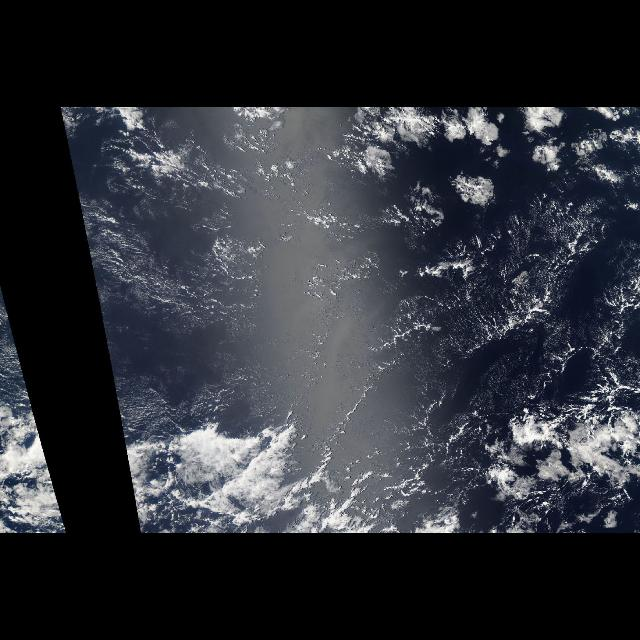Fish: (115, 404, 385, 530), (436, 220, 624, 346), (3, 404, 67, 530)
Flower: (333, 107, 607, 220)
Gravel: (369, 214, 575, 392)
Sugar: (80, 141, 594, 411)
